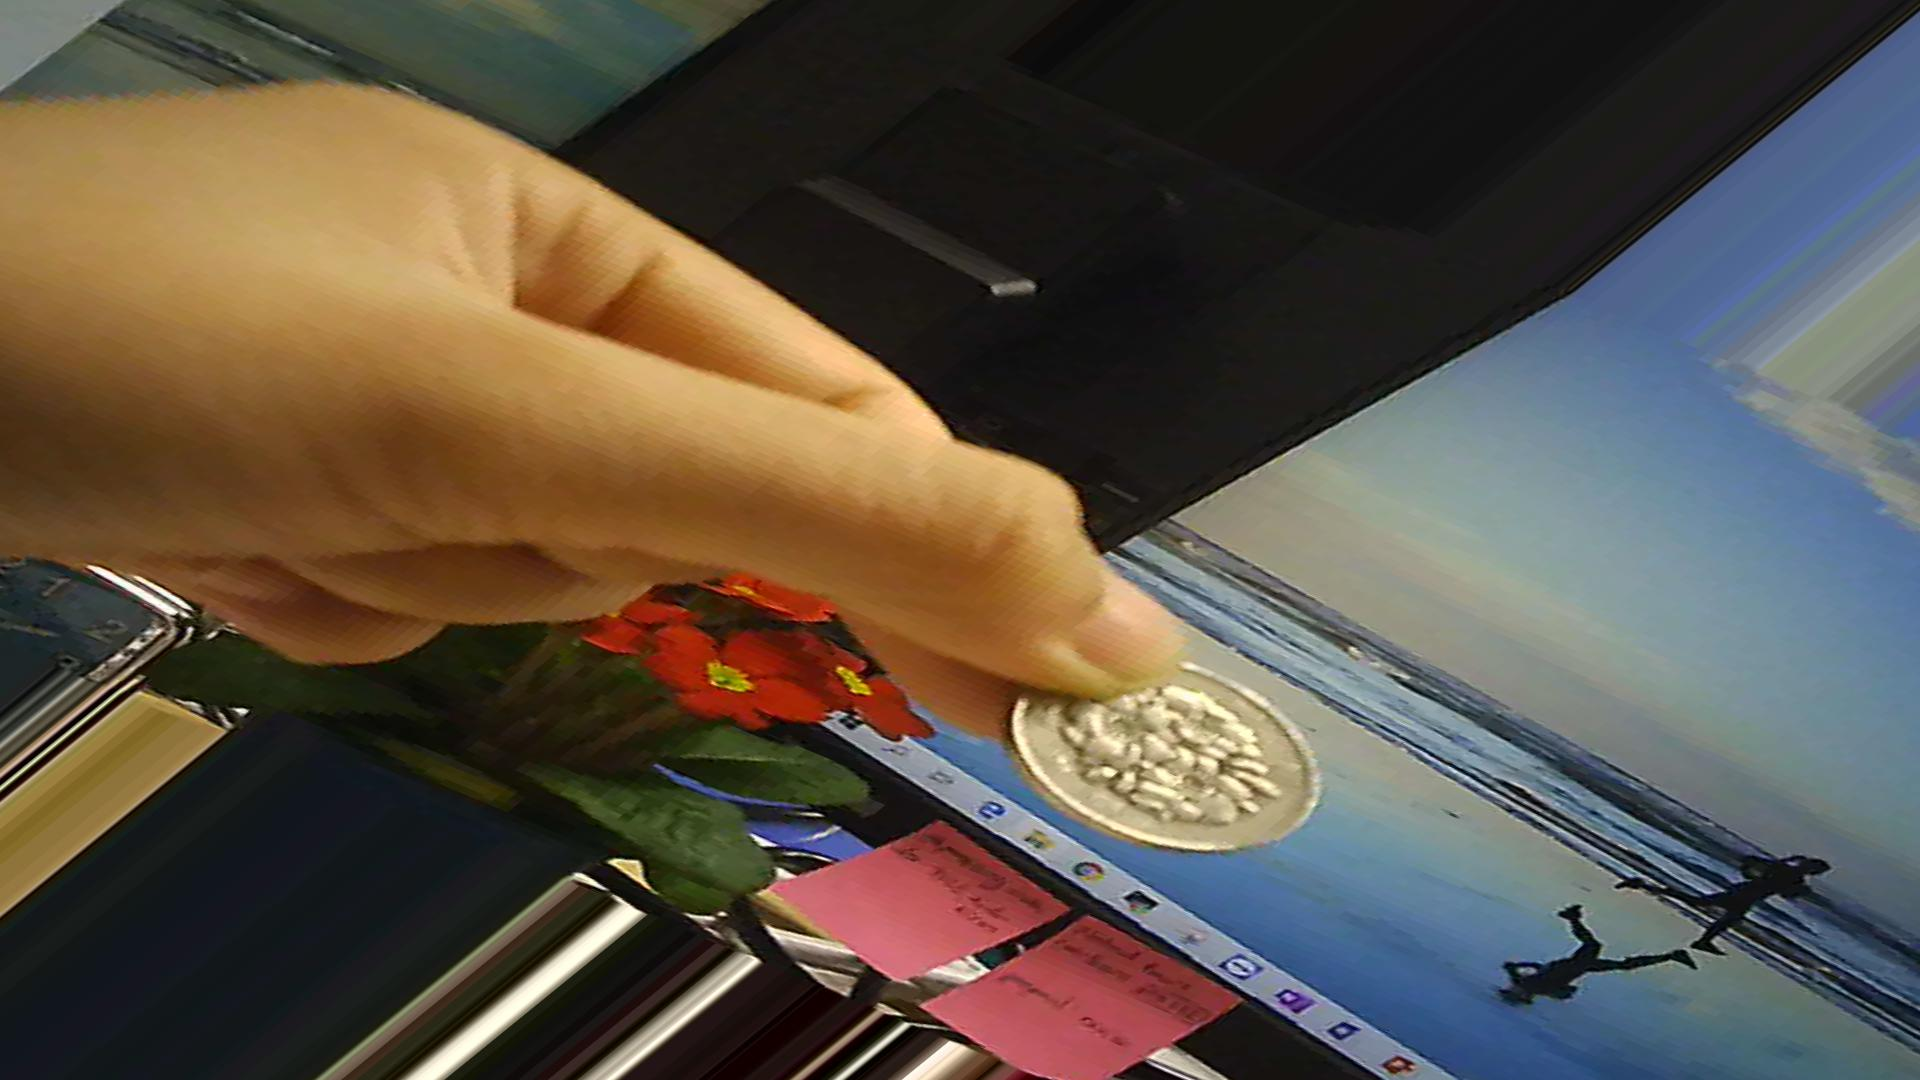100 Yen: (986, 630, 1340, 880)
